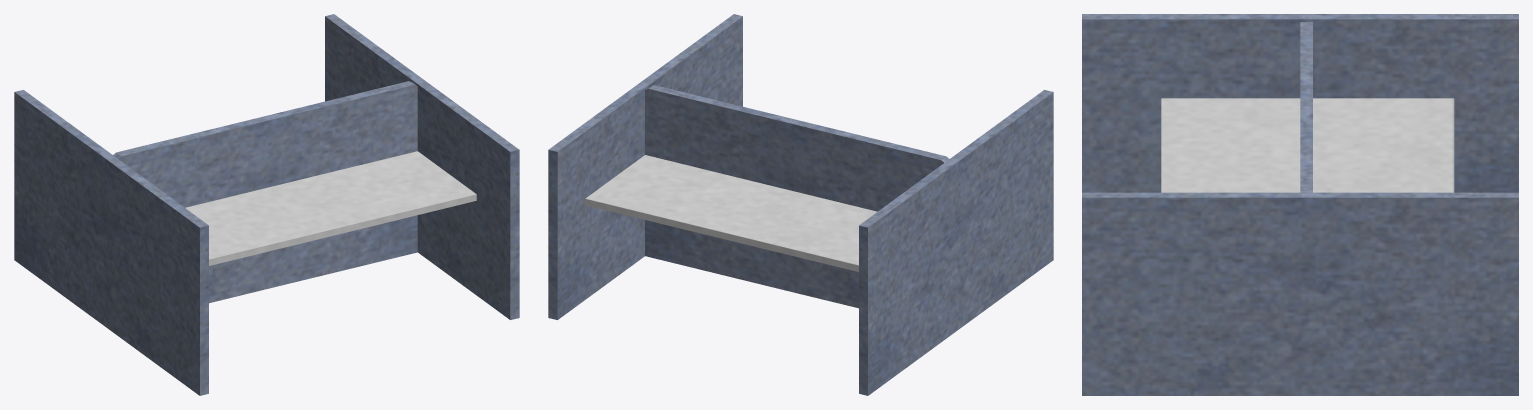
Rendered from divider_full_h_lue_desk.obj.
The picture shows the model from 3 angles, left to right: view 1: azimuth 30°, elevation 25°; view 2: azimuth 150°, elevation 25°; view 3: azimuth 270°, elevation 25°; orthographic projection. The views are drawn at different scales.
Visible parts, largest first — view 1: divider_full_h_lue_desk; view 2: divider_full_h_lue_desk; view 3: divider_full_h_lue_desk.
Part boxes in pixels (x1,y1,x2,y2): divider_full_h_lue_desk: [14, 14, 519, 395]; divider_full_h_lue_desk: [548, 14, 1053, 395]; divider_full_h_lue_desk: [1082, 14, 1518, 395].
Size of the model in its own units: 2.99 by 1.5 by 3.
